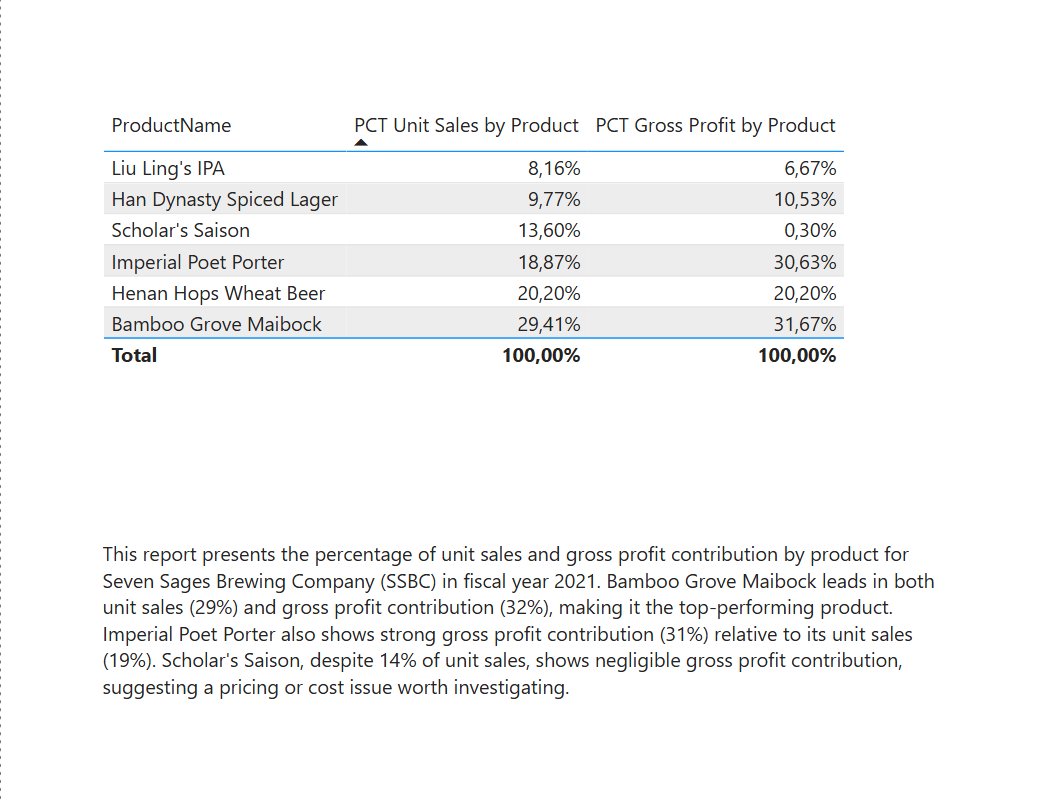

This screenshot's page, from the dashboard's own definition file:
{"tool":"powerbi","page":{"name":"Gross Profit and Unit Sales","canvas":[1280,720],"ordinal":1},"visuals":[{"type":"tableEx","fields":{"Values":["Products.ProductName","CFO_CostPrice.PCT Unit Sales by Product","CFO_CostPrice.PCT Gross Profit by Product"]},"box":[63.2,72.9,576.8,280.1],"z":0},{"type":"textbox","box":[63,363,577,280],"z":1000}]}

Visuals, with their boxes on the page's 1280x720 design canvas (x1, y1, x2, y2). These are canvas units, not pixel positions in the 1038x802 screenshot, which may show the page scaled, cropped or inside an application window:
tableEx - Products.ProductName x CFO_CostPrice.PCT Unit Sales by Product: bbox=(63, 73, 640, 353)
textbox: bbox=(63, 363, 640, 643)
